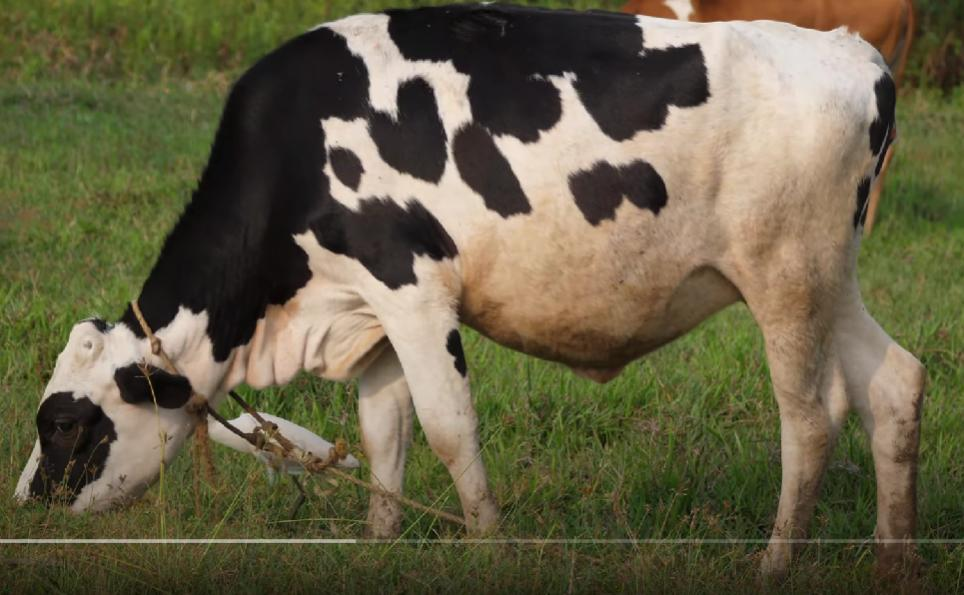cow: (12, 9, 927, 566)
